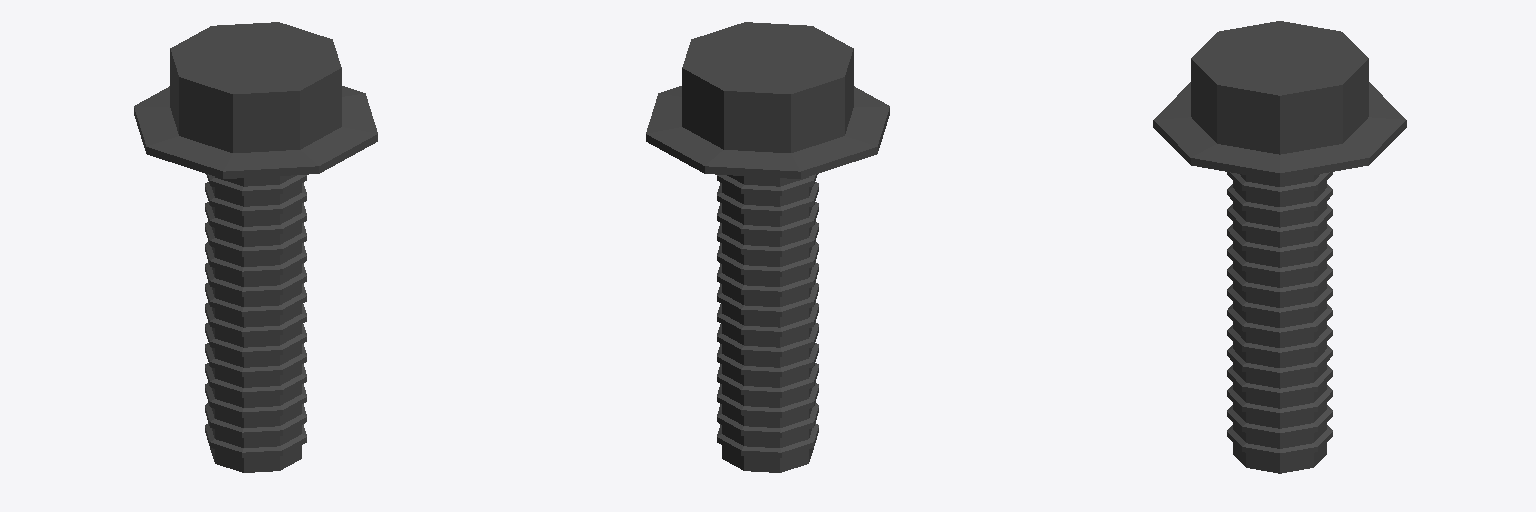
File: bolt.obj
3 views of the same model, side by side, from view 1: azimuth 30°, elevation 25°; view 2: azimuth 150°, elevation 25°; view 3: azimuth 270°, elevation 25° (orthographic).
Visible parts, largest first — view 1: Cylinder; view 2: Cylinder; view 3: Cylinder.
Boxes of the visible parts, x1,y1,x2,y2 form: Cylinder: [134, 22, 377, 472]; Cylinder: [646, 22, 889, 472]; Cylinder: [1153, 21, 1406, 473].
Bounding box in the file's own units: 0.5061 × 0.8727 × 0.5061.